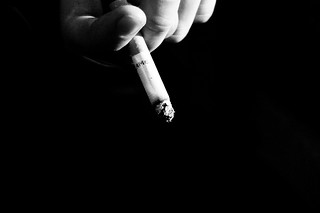cigarette: (122, 31, 181, 127)
